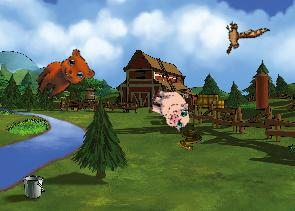bear: (30, 42, 99, 112)
eagle: (212, 6, 270, 64)
pig: (144, 83, 196, 133)
